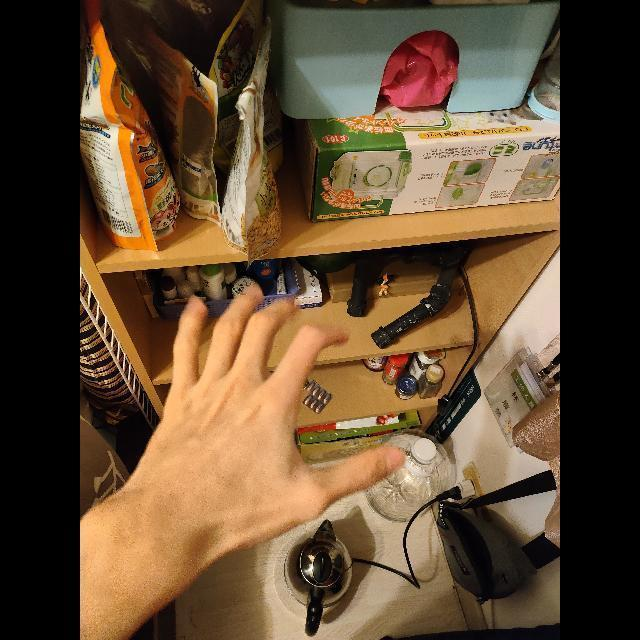bare_hand: (142, 281, 408, 550)
